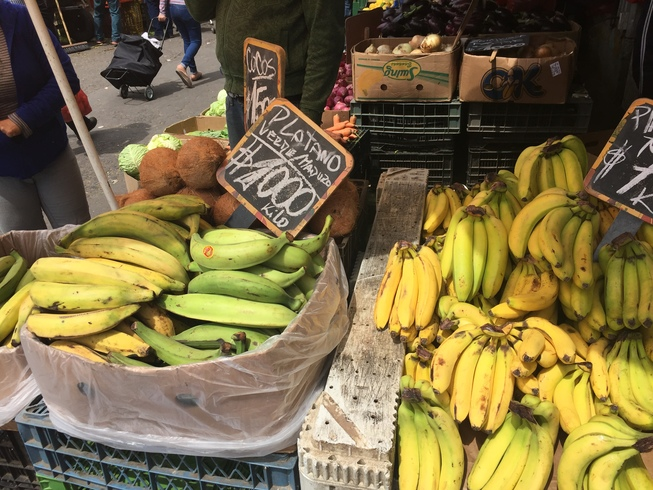precio: (212, 96, 363, 250), (578, 90, 653, 228), (236, 32, 304, 140)
